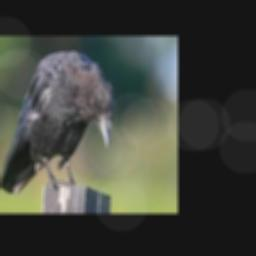Crow: (0, 51, 114, 195)
